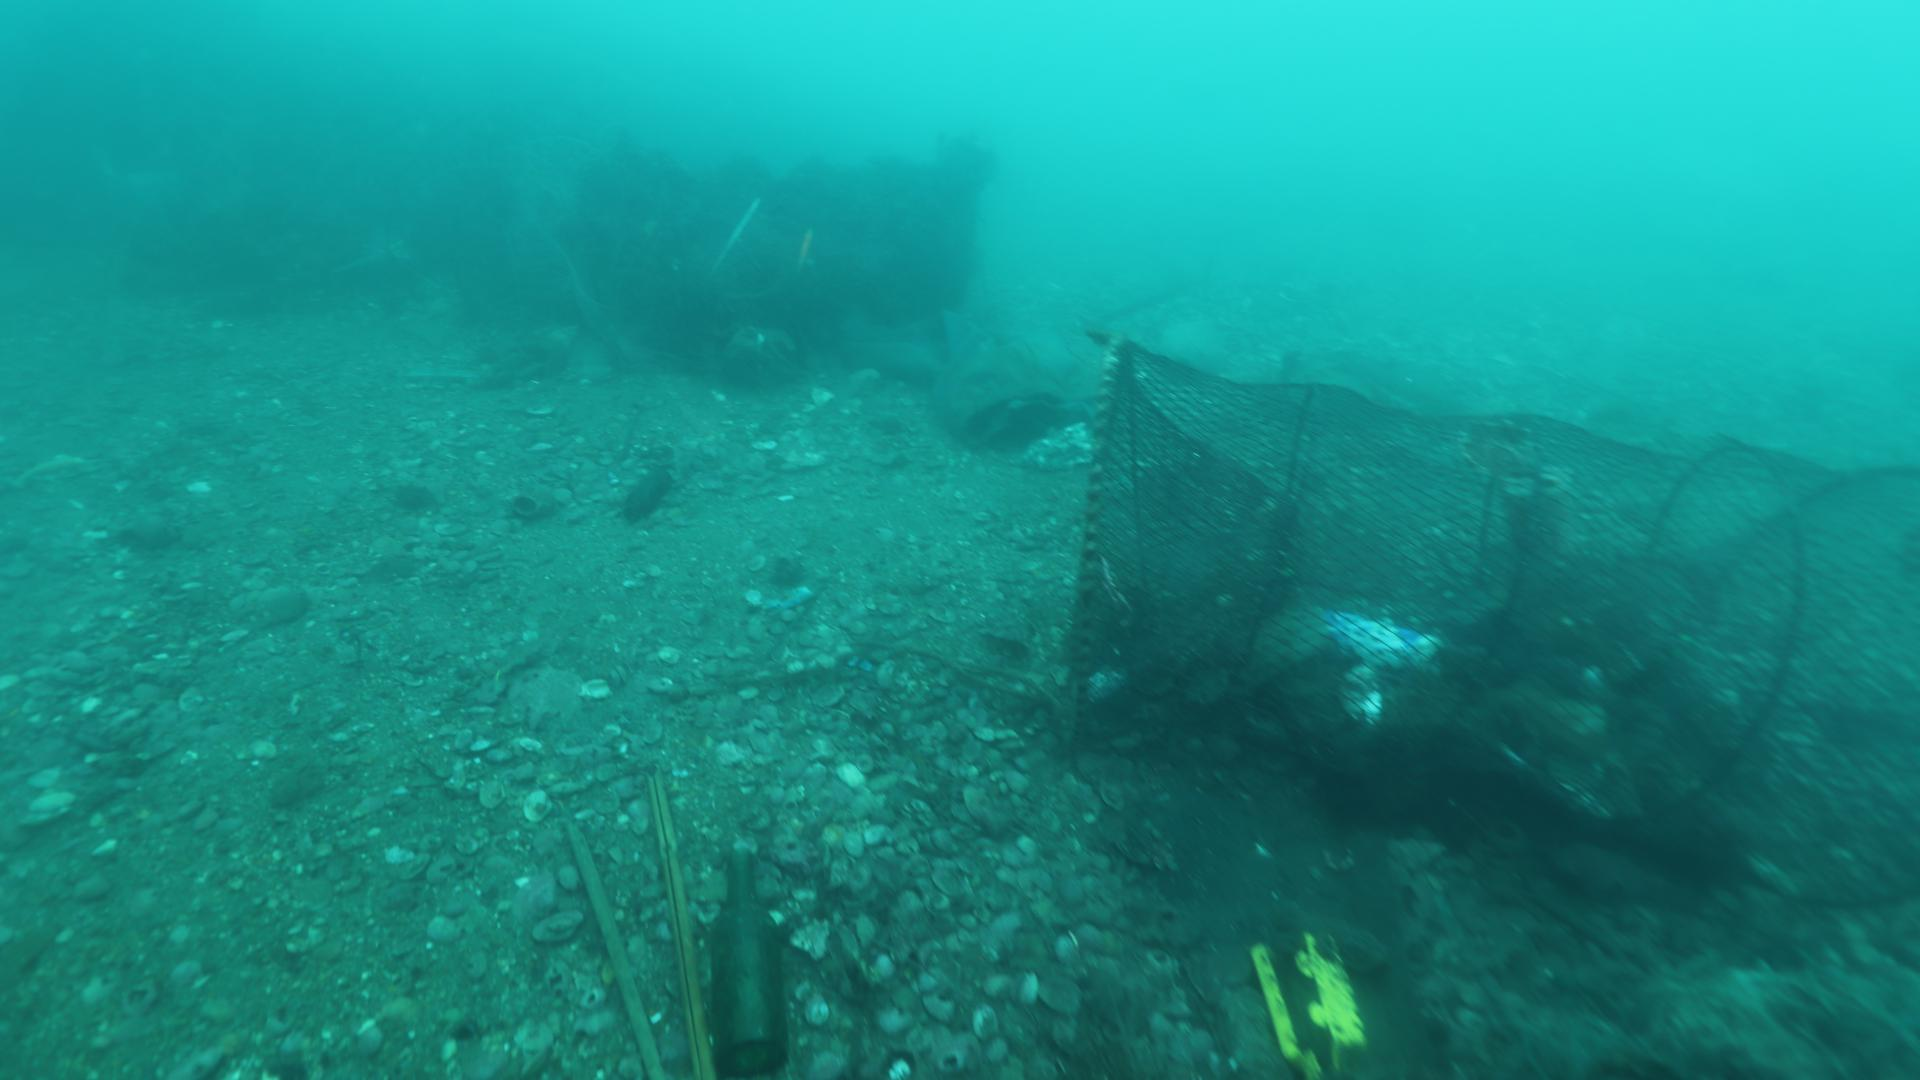spring fish trap: (1064, 330, 1920, 935)
